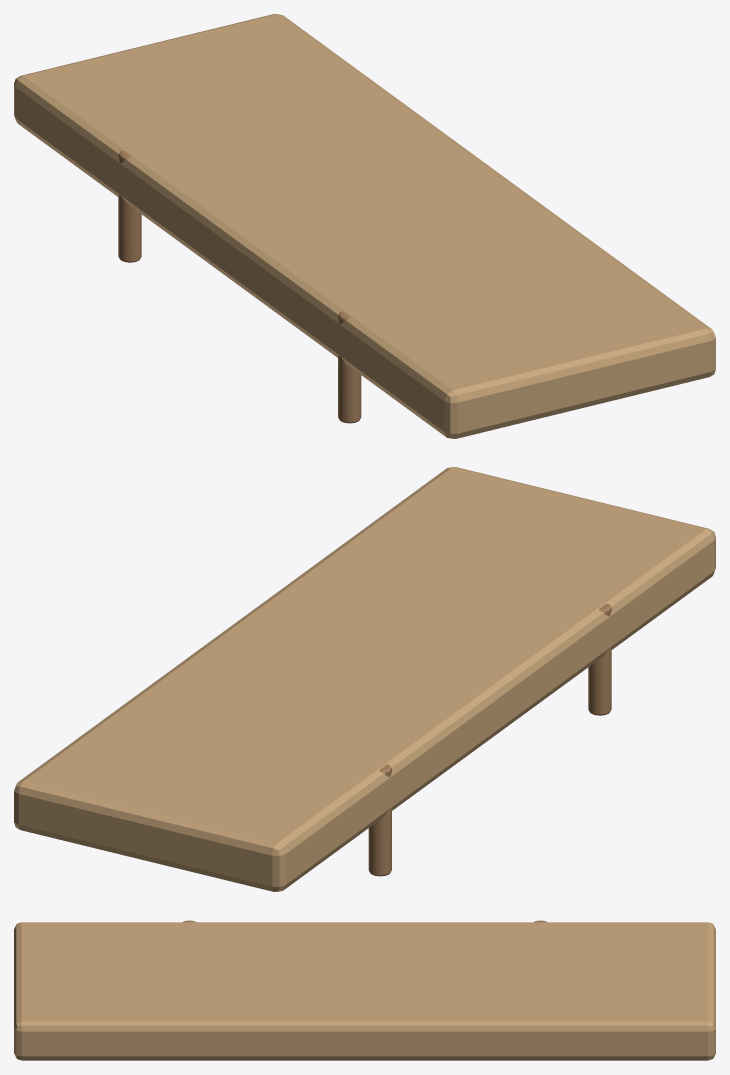
The picture shows the model from 3 angles, top to bottom: view 1: azimuth 30°, elevation 25°; view 2: azimuth 150°, elevation 25°; view 3: azimuth 270°, elevation 25°; orthographic projection. The views are drawn at different scales.
Parts seen in each view (by area): view 1: LOD1_FISHING_PIER_SHORT_Deck, LOD1_FISHING_PIER_SHORT_Pile_02, LOD1_FISHING_PIER_SHORT_Pile_01; view 2: LOD1_FISHING_PIER_SHORT_Deck, LOD1_FISHING_PIER_SHORT_Pile_01, LOD1_FISHING_PIER_SHORT_Pile_02; view 3: LOD1_FISHING_PIER_SHORT_Deck.
Boxes of the visible parts, box(x1,y1,x2,y2) form: LOD1_FISHING_PIER_SHORT_Deck: box(14, 14, 715, 438); LOD1_FISHING_PIER_SHORT_Pile_02: box(118, 150, 141, 262); LOD1_FISHING_PIER_SHORT_Pile_01: box(338, 311, 361, 423); LOD1_FISHING_PIER_SHORT_Deck: box(14, 467, 715, 891); LOD1_FISHING_PIER_SHORT_Pile_01: box(588, 603, 611, 715); LOD1_FISHING_PIER_SHORT_Pile_02: box(368, 764, 391, 876); LOD1_FISHING_PIER_SHORT_Deck: box(14, 922, 715, 1060).
Size of what is drawn, in the model's own units: 3.2 by 1.21 by 9.
